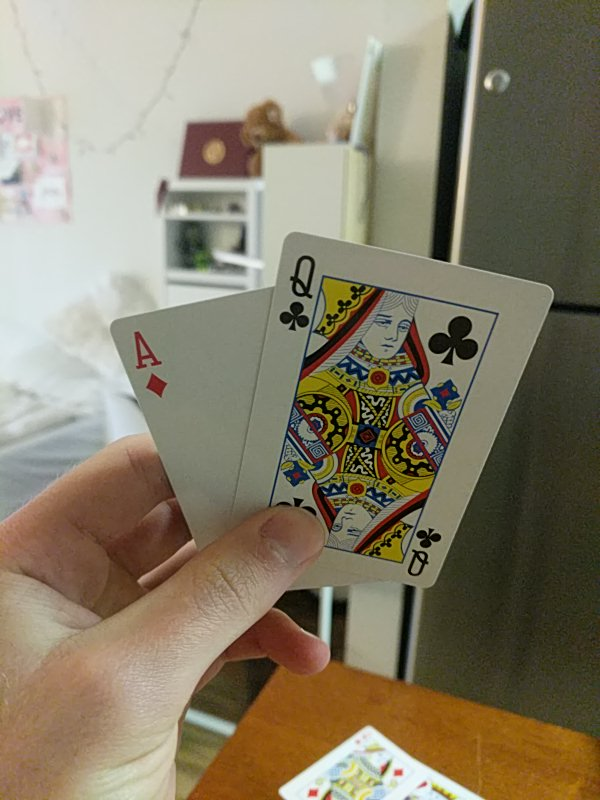Clubs: (230, 231, 551, 588)
Diamonds: (108, 285, 331, 590)
